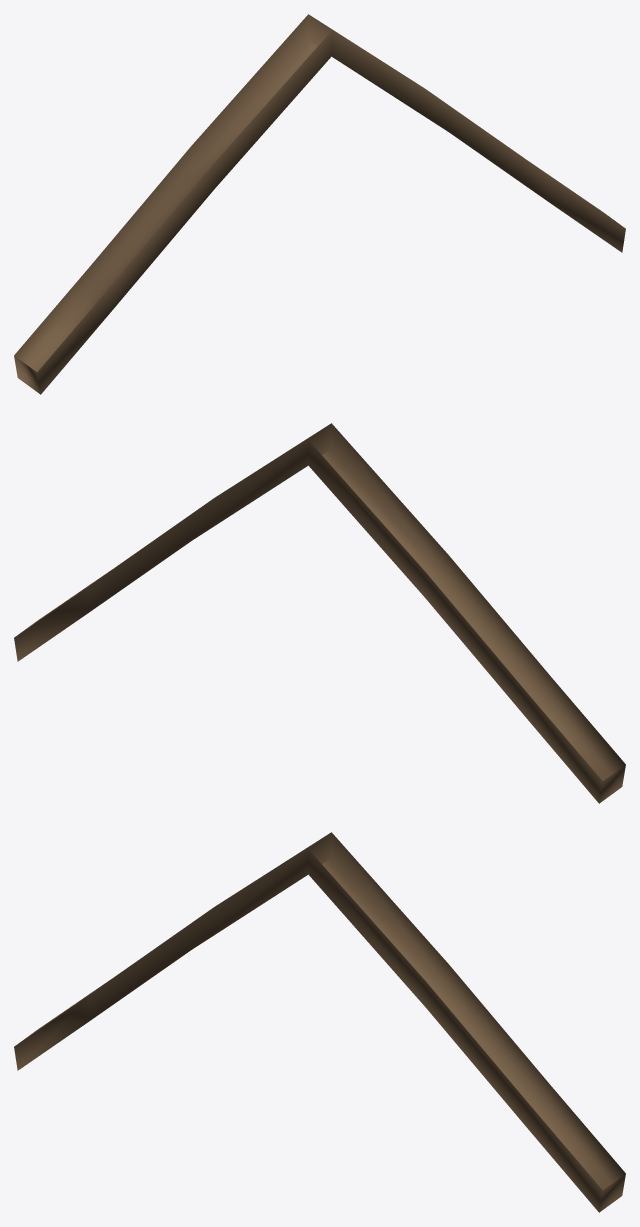
Rendered from rpgpp_ag_roof_end_01_9x4_beam_a.fbx.
The picture shows the model from 3 angles, top to bottom: view 1: azimuth 30°, elevation 25°; view 2: azimuth 150°, elevation 25°; view 3: azimuth 330°, elevation 25°; orthographic projection.
Visible parts, largest first — view 1: rpgpp_ag_roof_end_01_9x4_beam_a; view 2: rpgpp_ag_roof_end_01_9x4_beam_a; view 3: rpgpp_ag_roof_end_01_9x4_beam_a.
Part boxes in pixels (bbox=[...]): rpgpp_ag_roof_end_01_9x4_beam_a: bbox=[14, 14, 625, 394]; rpgpp_ag_roof_end_01_9x4_beam_a: bbox=[14, 423, 625, 803]; rpgpp_ag_roof_end_01_9x4_beam_a: bbox=[14, 832, 625, 1212].
Size of the model in its own units: 9.6 by 4.56 by 0.6538.
